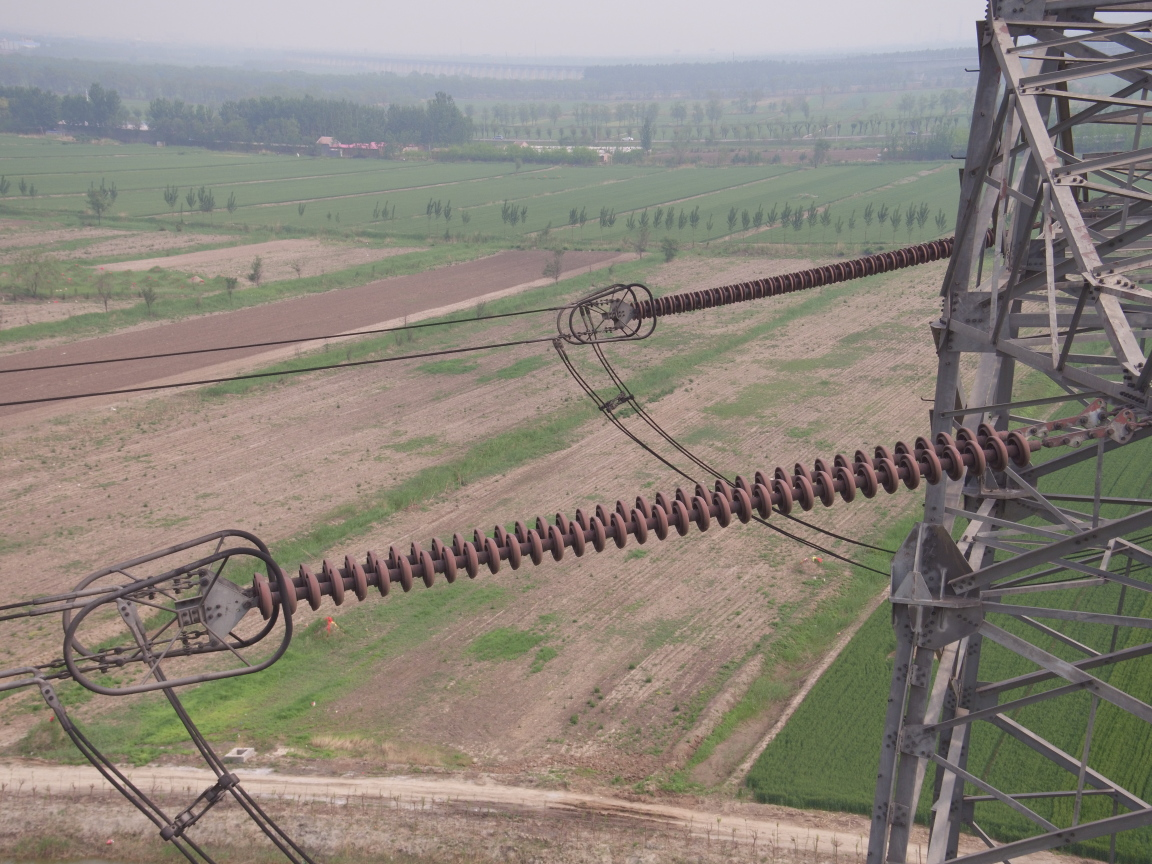insulator: (234, 420, 1077, 625), (624, 235, 952, 323)
